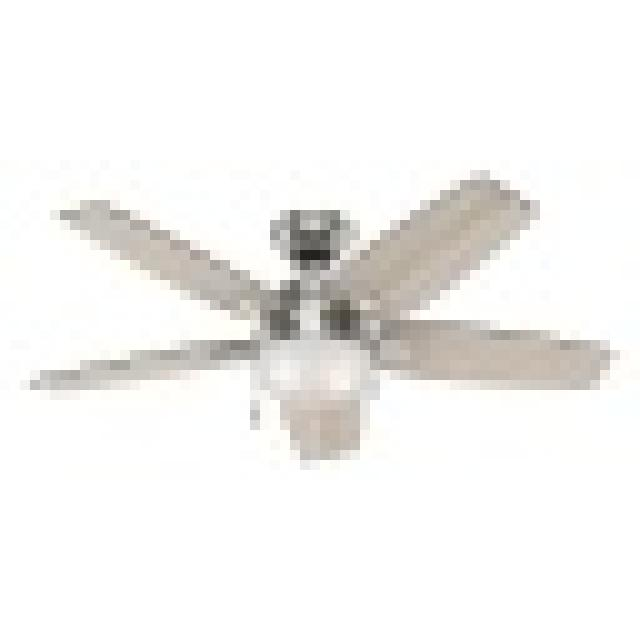Bulb: (33, 154, 614, 473)
